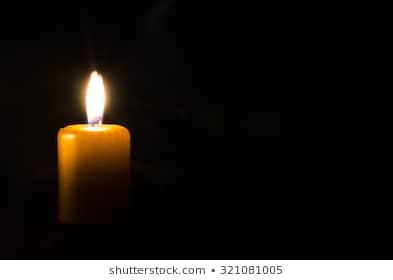fire: (82, 67, 106, 123)
